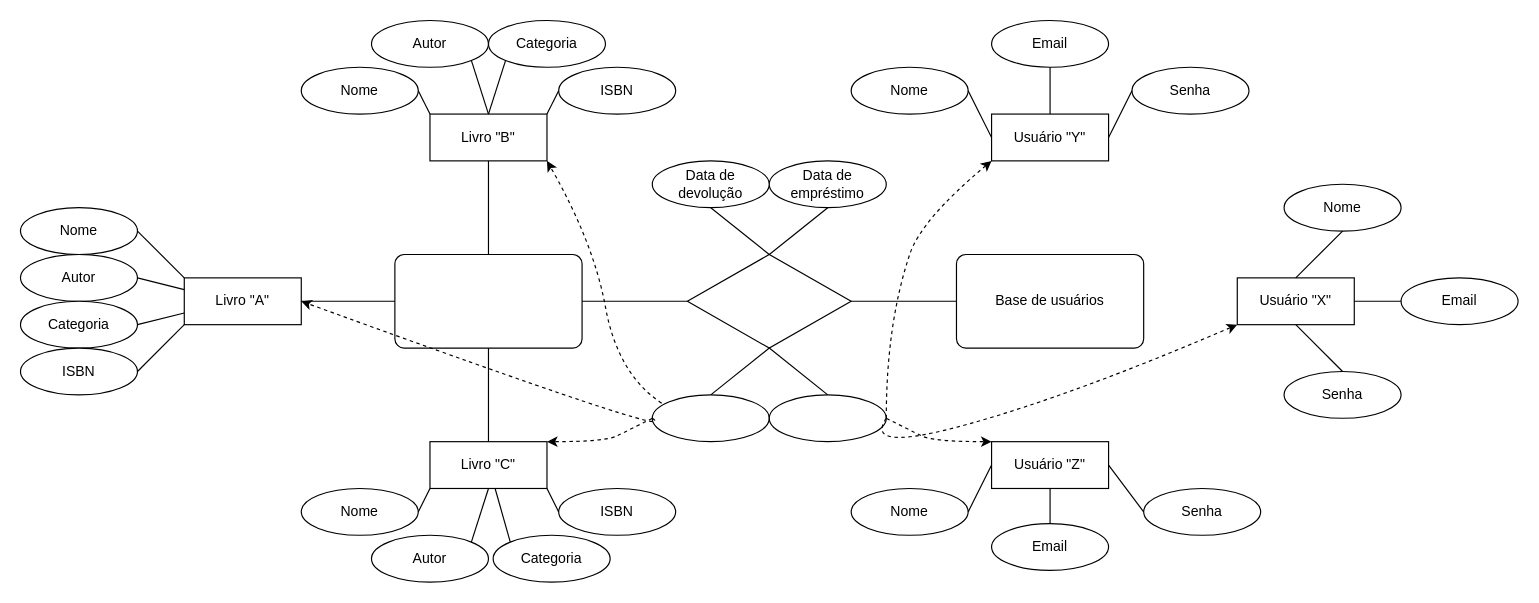
This 1539x603 diagram has some shape labels left out. The box of each missing label's shape, as (x1, y1, x2, y2) in pixels:
Biblioteca: (394, 253, 582, 348)
Livro solicitado: (651, 394, 769, 442)
Solicitador: (768, 394, 886, 442)
Solicitação de aluguel: (686, 253, 851, 348)
